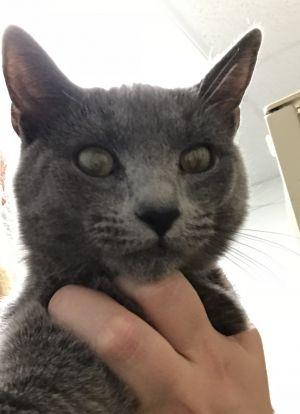rblue: (1, 15, 294, 310)
